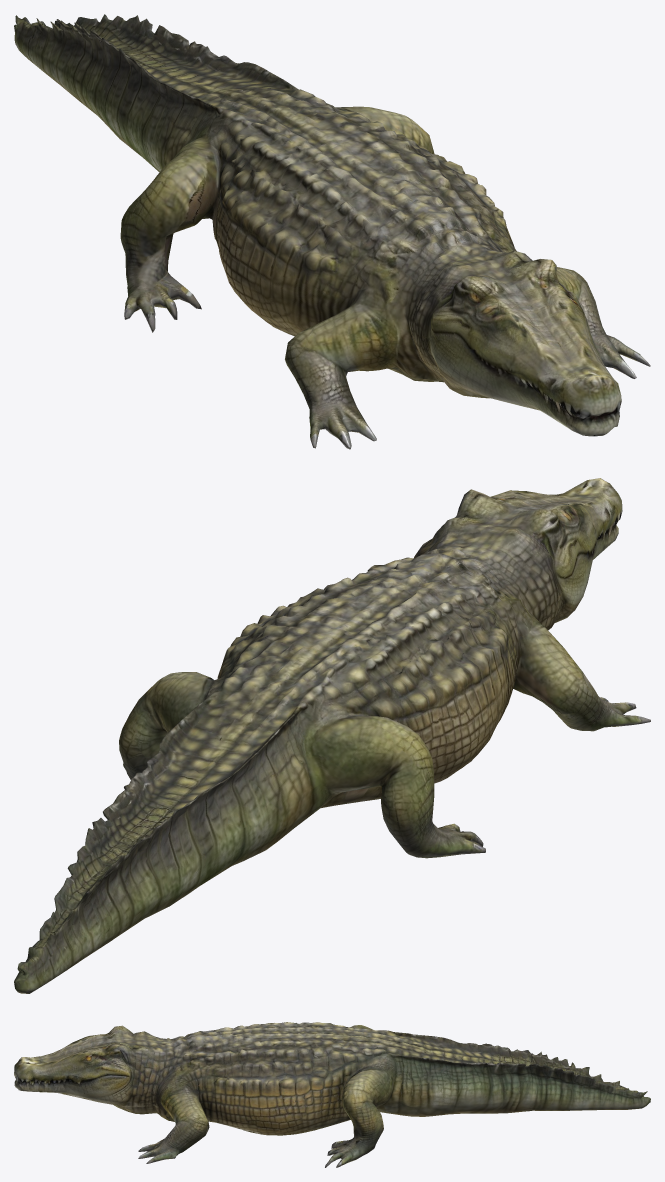
File: crocodile.glb
3 renders of one model, top to bottom at view 1: azimuth 30°, elevation 25°; view 2: azimuth 150°, elevation 25°; view 3: azimuth 270°, elevation 25°, orthographic. The views are drawn at different scales.
Visible parts, largest first — view 1: MeshyFit; view 2: MeshyFit; view 3: MeshyFit.
Part boxes in pixels (box(x1,y1,x2,y2)): MeshyFit: box(14, 14, 650, 449); MeshyFit: box(14, 478, 650, 993); MeshyFit: box(14, 1022, 650, 1167).
Bounding box in the file's own units: 1.03 × 0.45 × 2.91.
Materials: 1 (1 with a texture image).
